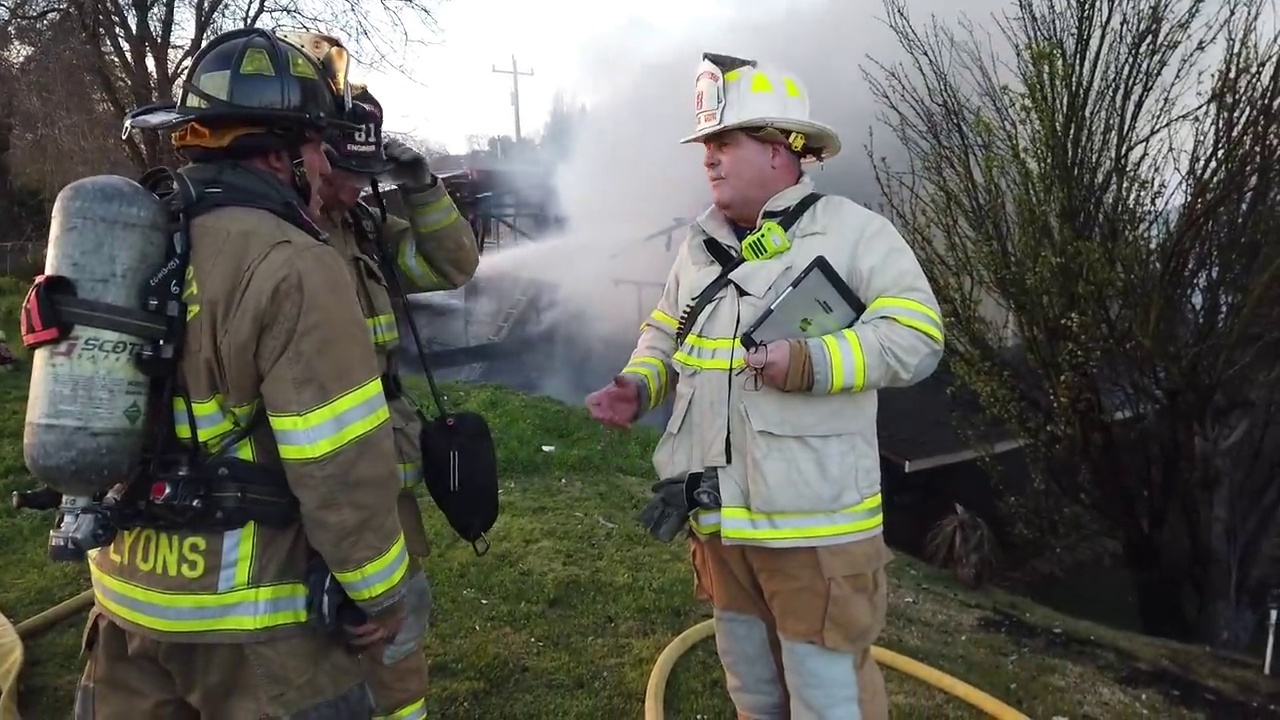smoke: (520, 1, 675, 355), (802, 13, 896, 202)
